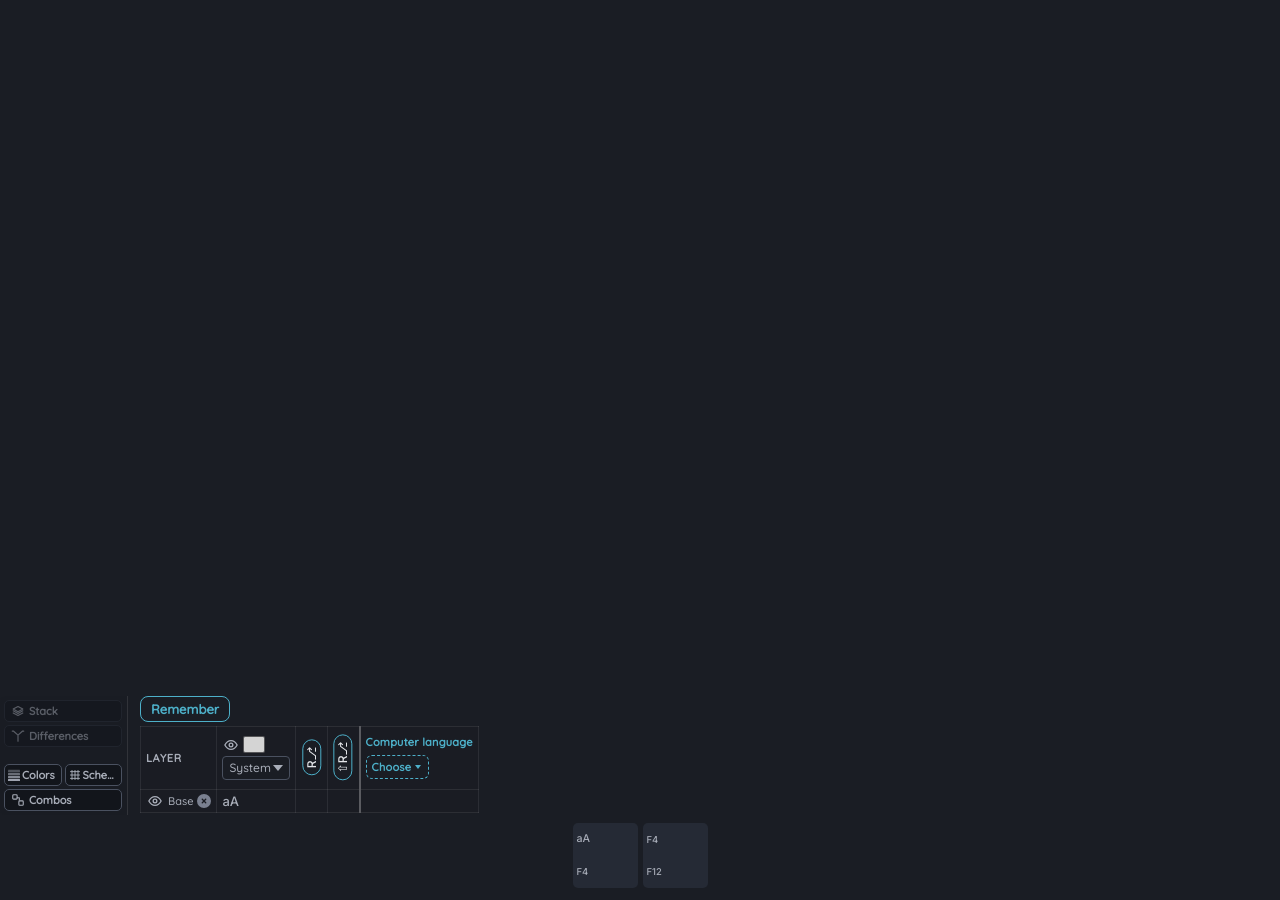
Test: Keyboard layers › cancels rename when clicking document.body
Click the button with class "layer-name" at (181, 801), box [168, 794, 194, 808]
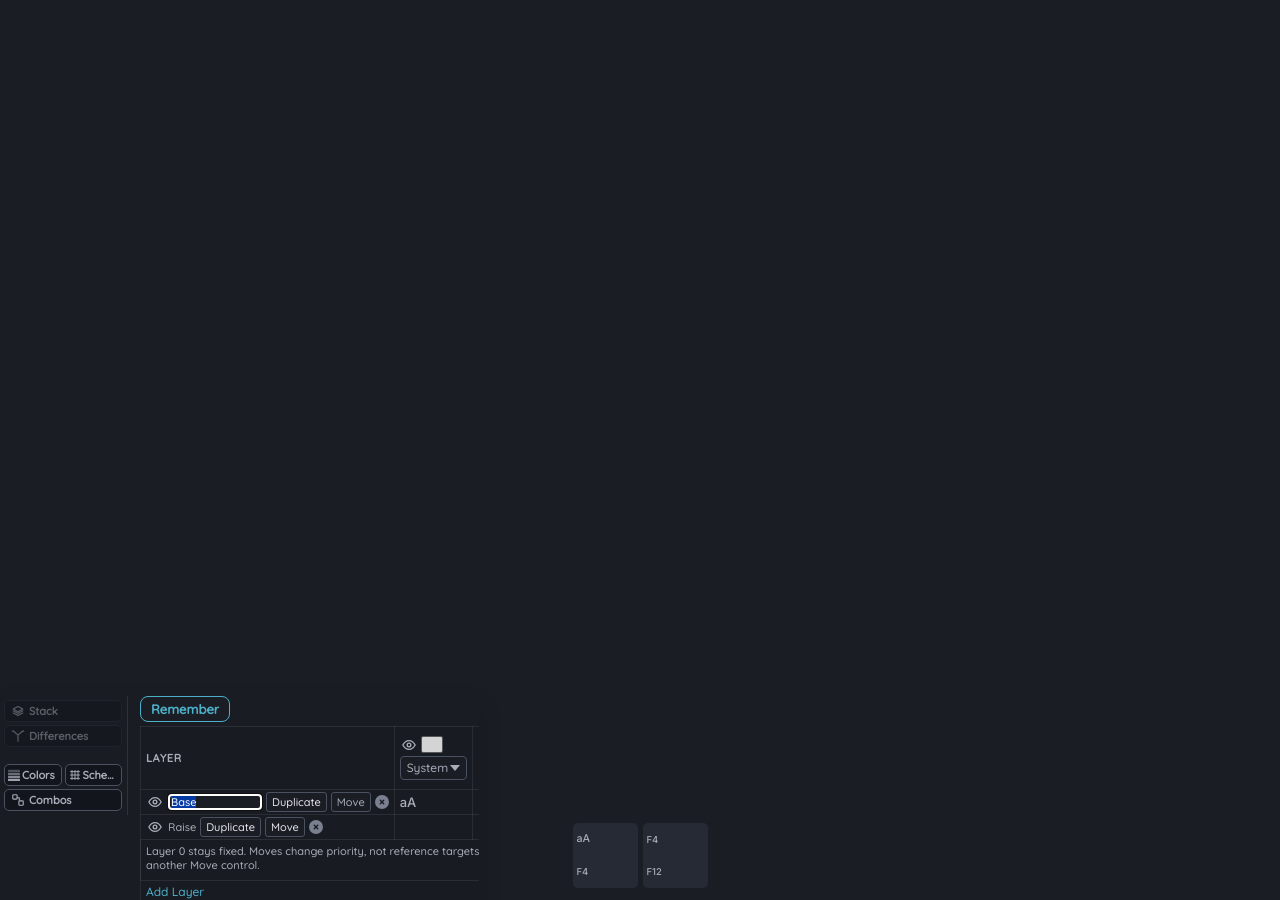
Replace the text in the 1st field with class "layer-name" with "Lower" at (215, 802), box [168, 794, 262, 810]
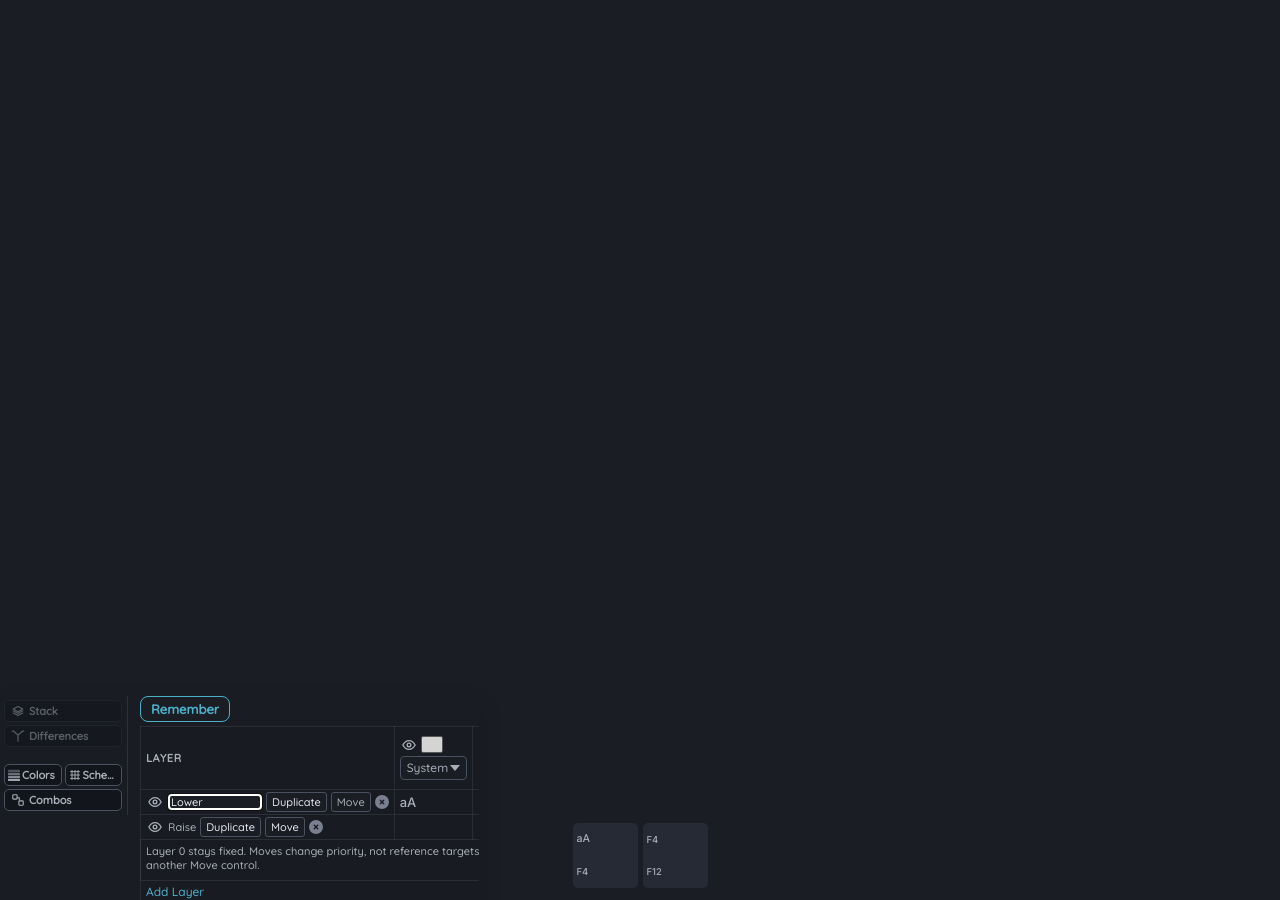
Click the element that starts with "Stack" at (640, 450), box [0, 0, 1279, 899]
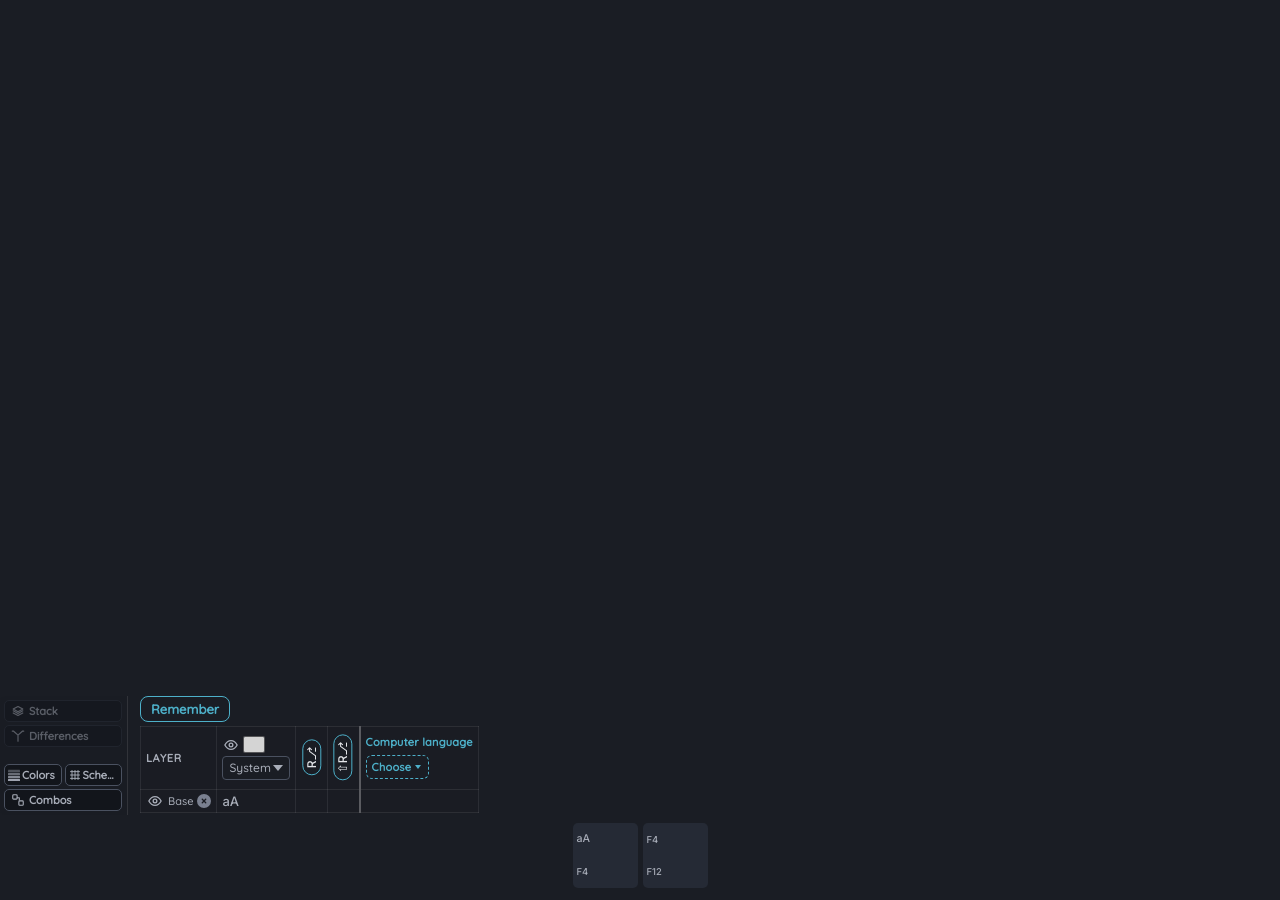
Expected: the button "Raise" is gone
